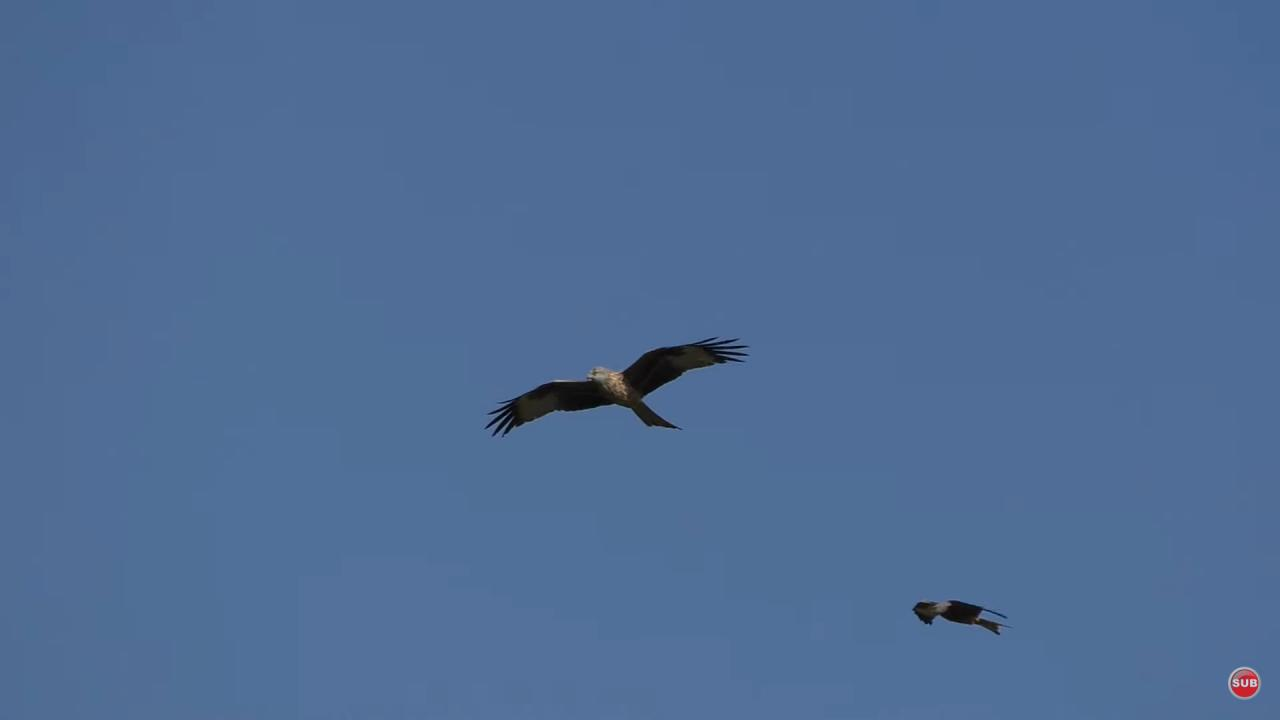Bird: (476, 324, 757, 448), (900, 582, 1016, 645)
